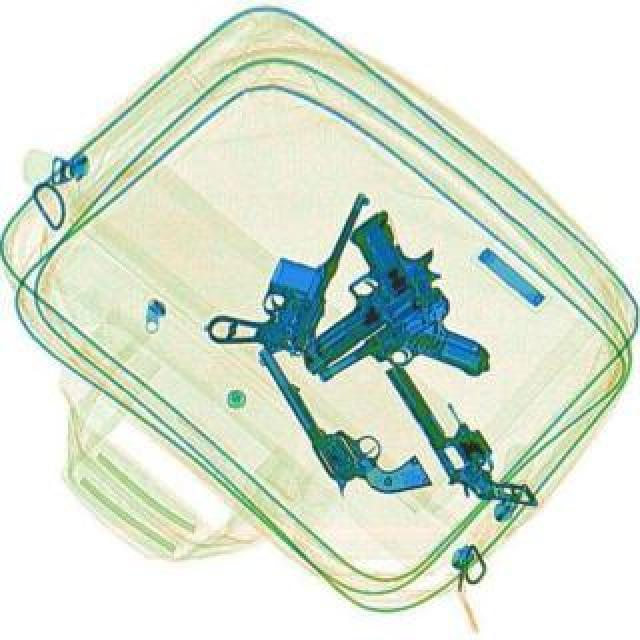gun: (250, 312, 434, 524), (248, 200, 452, 372), (204, 162, 372, 370), (310, 282, 500, 446), (384, 340, 540, 532)
